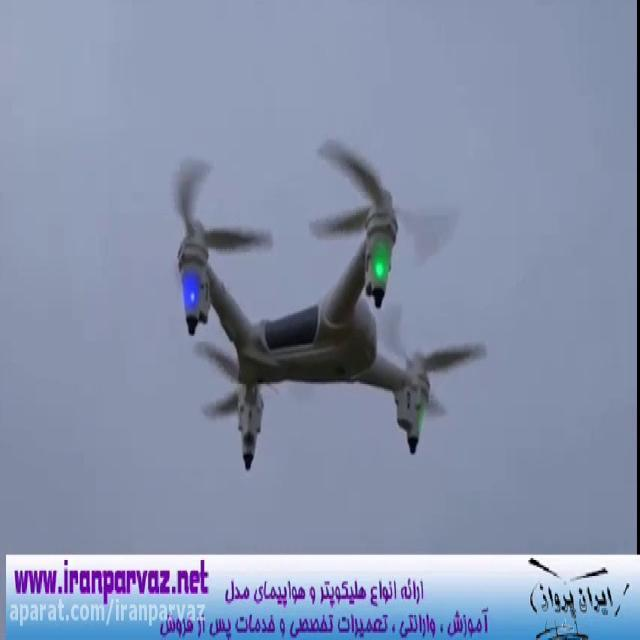drone: (160, 122, 494, 474)
